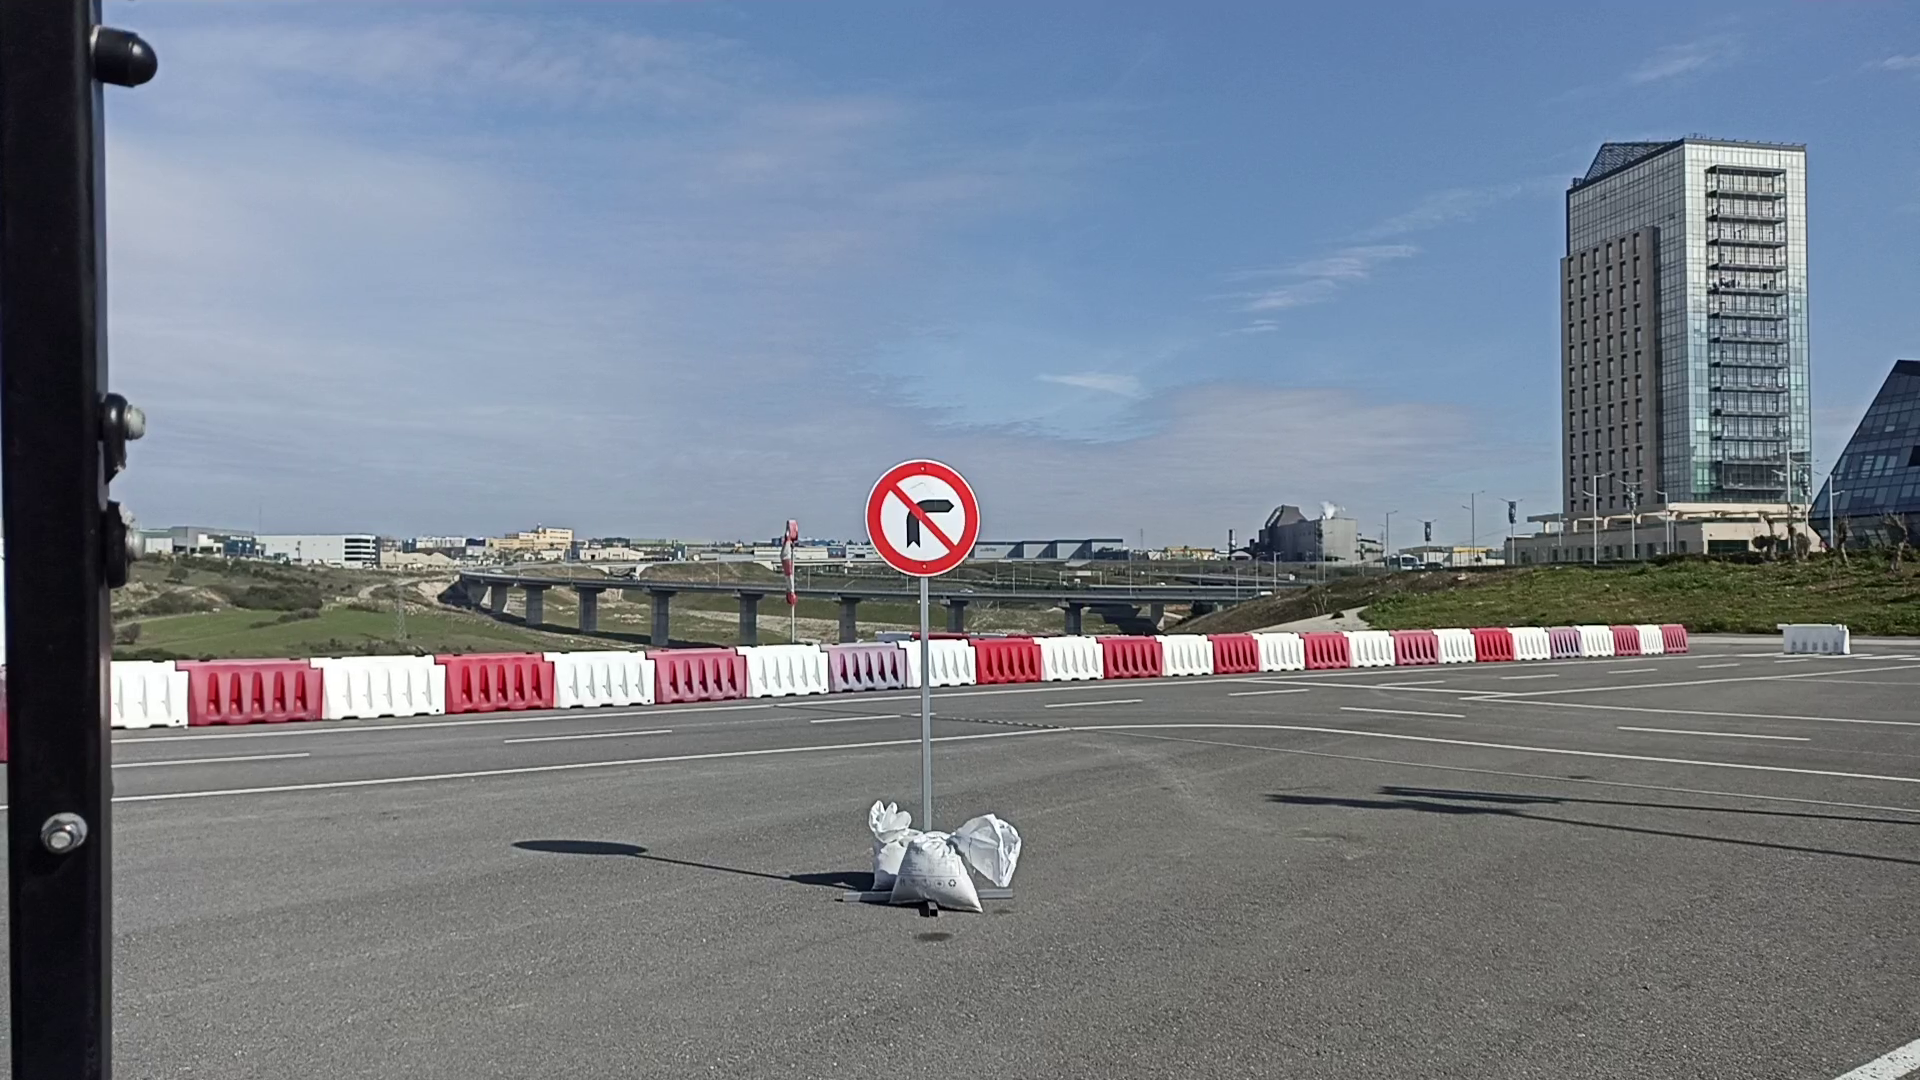noleftturn: (862, 458, 984, 579)
